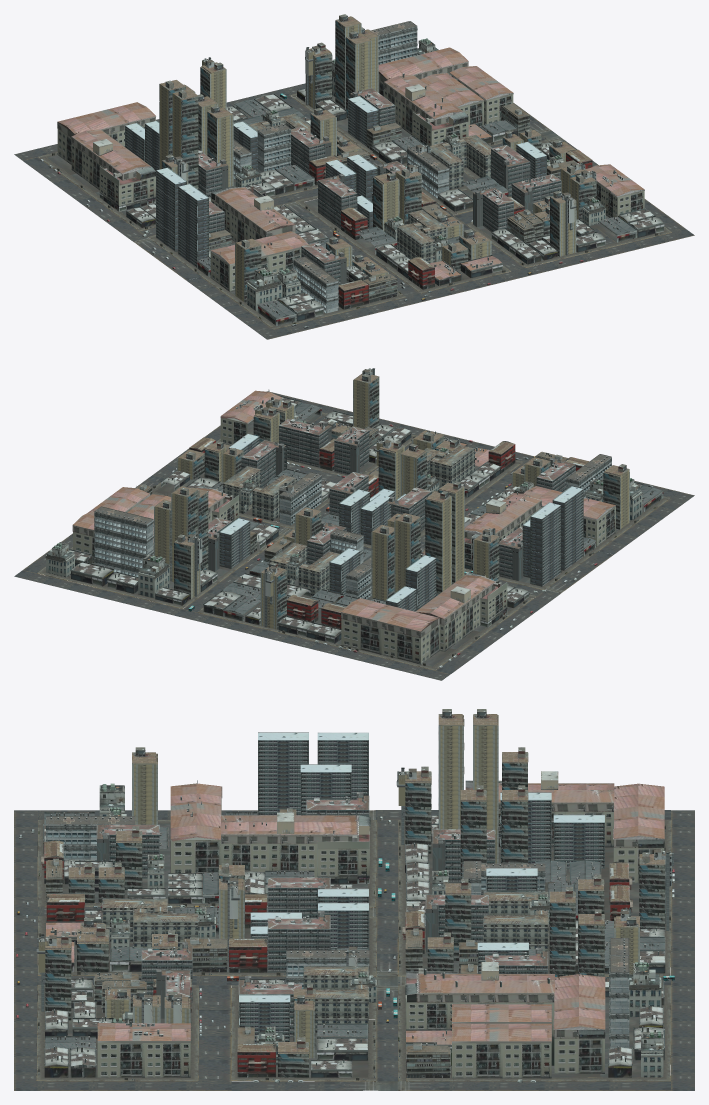
Rendered from city.obj.
3 views of the same model, one above another, from view 1: azimuth 30°, elevation 25°; view 2: azimuth 150°, elevation 25°; view 3: azimuth 270°, elevation 25° (orthographic). The views are drawn at different scales.
Parts seen in each view (by area): view 1: ortoedificio-frontal-frontal.004, ortoedificio-frontal-frontal, ortoedificio-frontal-frontal.001, ciudadortogonal-CALLE2mod.010, ortoedificiotechoceleste_-COMPLETO.006, orto-edificio22-completo.035, ortoedificio-frontal-frontal.002, ortoedificiotechoceleste_-COMPLETO.008, ciudadortogonal-CALLE2mod.017, ortoedificio-frontal-frontal.003, hospitalcompleto.005, hospitalcompleto.006 (+59 smaller); view 2: ortoedificio-frontal-frontal.004, ortoedificio-frontal-frontal.001, ciudadortogonal-CALLE2mod.014, hospitalcompleto.006, ortoedificiotechoceleste_-COMPLETO.008, orto-edificio22-completo.033, ortoedificiotechoceleste_-COMPLETO.006, ortoedificiocontechorojo-.009, ortoedificio-frontal-frontal, ciudadortogonal-CALLE2mod.017, orto-edificio22-completo.012, orto-edificio22-completo.031 (+59 smaller); view 3: ortoedificio-frontal-frontal.001, ortoedificio-frontal-frontal, ortoedificio-frontal-frontal.004, ciudadortogonal-CALLE2mod.014, ciudadortogonal-CALLE2mod.010, ortoedificio-frontal-frontal.003, ortoedificio-frontal-frontal.002, ortoedificiotechoceleste_-COMPLETO.006, ciudadortogonal-CALLE2mod.009, ciudadortogonal-CALLE2mod.007, orto-edificio22-completo.035, ortoedificiocontechorojo- (+92 smaller).
Boxes of the visible parts, bbox=[...] form: ortoedificio-frontal-frontal.004: bbox=[57, 102, 156, 211]; ortoedificio-frontal-frontal: bbox=[378, 47, 468, 145]; ortoedificio-frontal-frontal.001: bbox=[210, 184, 308, 291]; ciudadortogonal-CALLE2mod.010: bbox=[259, 229, 694, 339]; ortoedificiotechoceleste_-COMPLETO.006: bbox=[178, 184, 208, 267]; orto-edificio22-completo.035: bbox=[172, 93, 198, 189]; ortoedificio-frontal-frontal.002: bbox=[586, 164, 644, 217]; ortoedificiotechoceleste_-COMPLETO.008: bbox=[156, 167, 186, 251]; ciudadortogonal-CALLE2mod.017: bbox=[23, 157, 147, 241]; ortoedificio-frontal-frontal.003: bbox=[449, 66, 513, 124]; hospitalcompleto.005: bbox=[293, 256, 339, 313]; hospitalcompleto.006: bbox=[370, 21, 417, 64]; ortoedificio-frontal-frontal.004: bbox=[341, 572, 507, 664]; ortoedificio-frontal-frontal.001: bbox=[464, 486, 615, 569]; ciudadortogonal-CALLE2mod.014: bbox=[14, 570, 449, 680]; hospitalcompleto.006: bbox=[94, 506, 154, 576]; ortoedificiotechoceleste_-COMPLETO.008: bbox=[530, 502, 561, 586]; orto-edificio22-completo.033: bbox=[425, 497, 451, 595]; ortoedificiotechoceleste_-COMPLETO.006: bbox=[552, 486, 583, 570]; ortoedificiocontechorojo-.009: bbox=[278, 419, 331, 467]; ortoedificio-frontal-frontal: bbox=[72, 485, 238, 562]; ciudadortogonal-CALLE2mod.017: bbox=[435, 590, 559, 674]; orto-edificio22-completo.012: bbox=[371, 525, 394, 600]; orto-edificio22-completo.031: bbox=[394, 513, 420, 593]; ortoedificio-frontal-frontal.001: bbox=[170, 780, 370, 883]; ortoedificio-frontal-frontal: bbox=[405, 962, 605, 1073]; ortoedificio-frontal-frontal.004: bbox=[465, 771, 664, 883]; ciudadortogonal-CALLE2mod.014: bbox=[671, 810, 694, 1090]; ciudadortogonal-CALLE2mod.010: bbox=[14, 810, 37, 1090]; ortoedificio-frontal-frontal.003: bbox=[452, 1023, 551, 1078]; ortoedificio-frontal-frontal.002: bbox=[97, 1023, 190, 1077]; ortoedificiotechoceleste_-COMPLETO.006: bbox=[258, 732, 308, 815]; ciudadortogonal-CALLE2mod.009: bbox=[197, 985, 231, 1084]; ciudadortogonal-CALLE2mod.007: bbox=[231, 1081, 543, 1090]; orto-edificio22-completo.035: bbox=[438, 715, 464, 829]; ortoedificiocontechorojo-: bbox=[267, 911, 330, 972].
Size of the model in its own units: 52.68 by 14.23 by 54.01.
